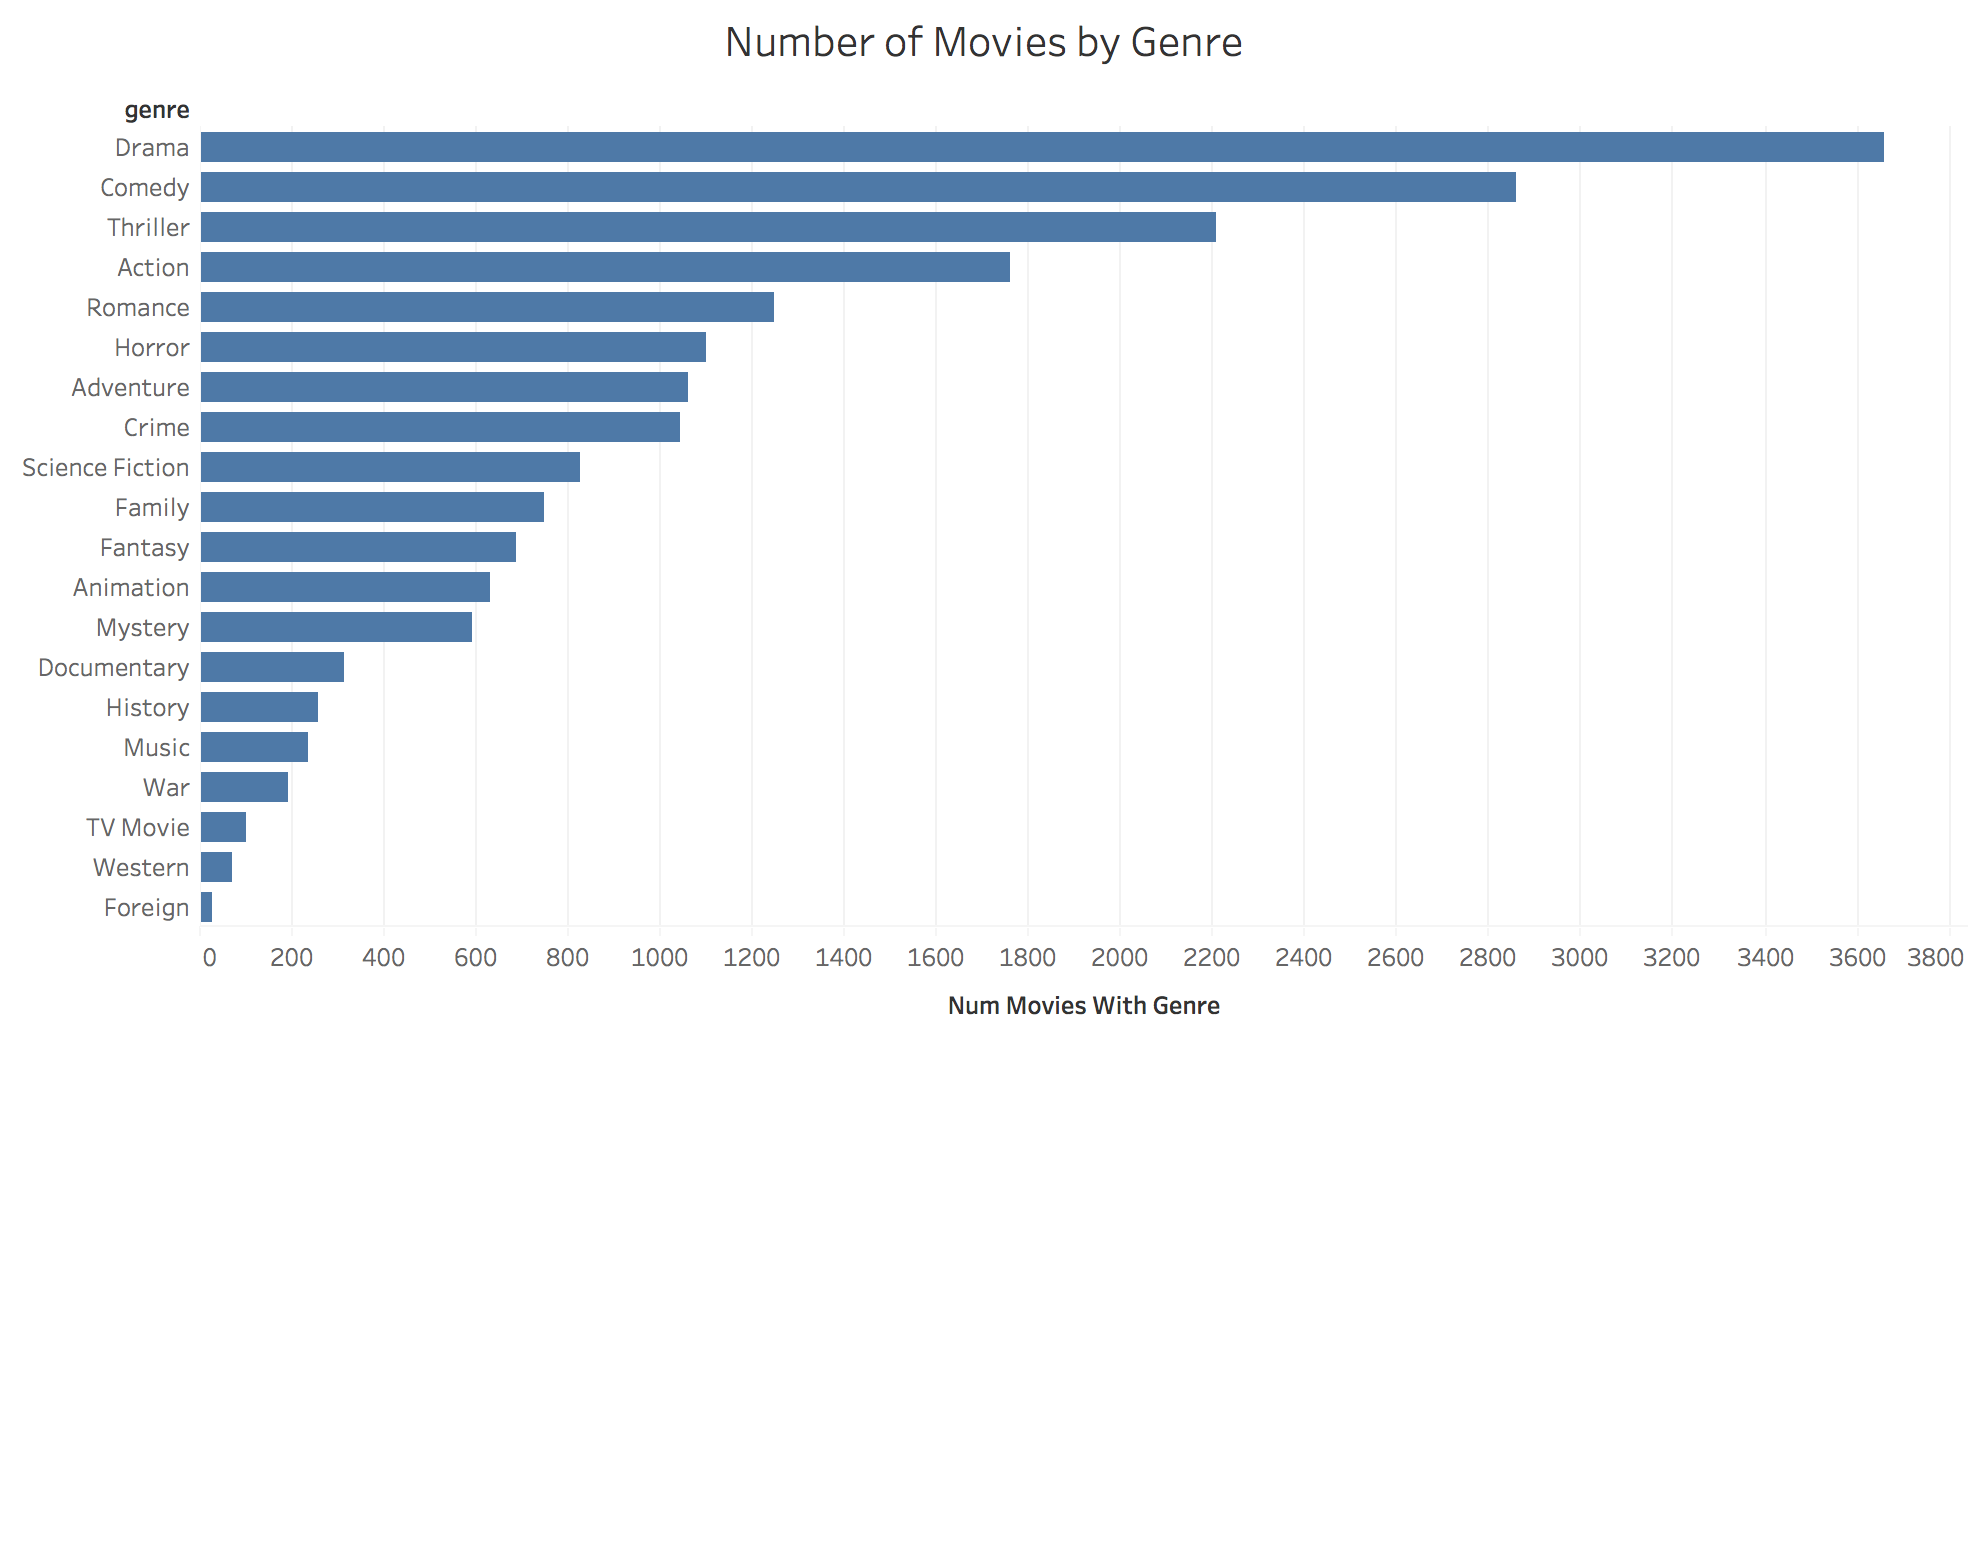

This screenshot's page, from the dashboard's own definition file:
{"tool":"tableau","page":{"name":"Dashboard 2","canvas":[1000,800],"ordinal":1},"visuals":[{"type":"worksheet","title":"Sheet 2","mark":"Bar","rows":["genre_labels"],"cols":["num_movies"],"box":[0,0,1000,800]}]}

Visuals, with their boxes in screenshot pixels (x1, y1, x2, y2), scaled from the page's 1000x800 canvas onto the 1968x1568 screenshot:
"Sheet 2" worksheet (Bar marks): region(0, 0, 1967, 1567)
